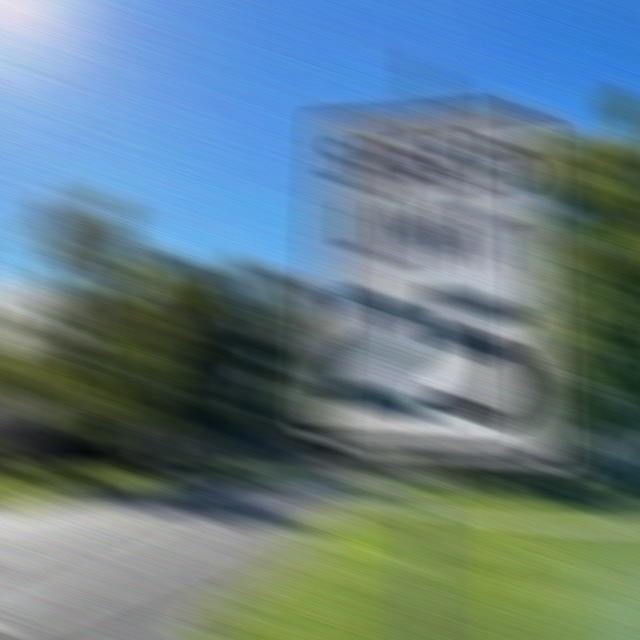speedLimit25: (304, 93, 558, 473)
